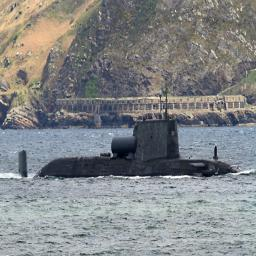submarine: (17, 119, 241, 179)
